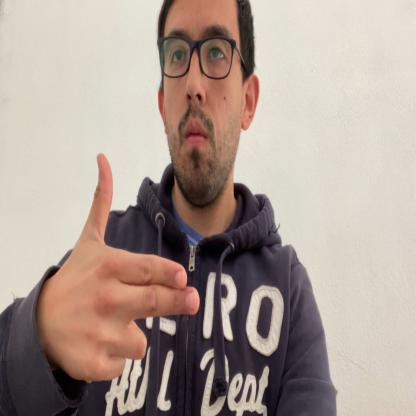H: (53, 151, 200, 381)
